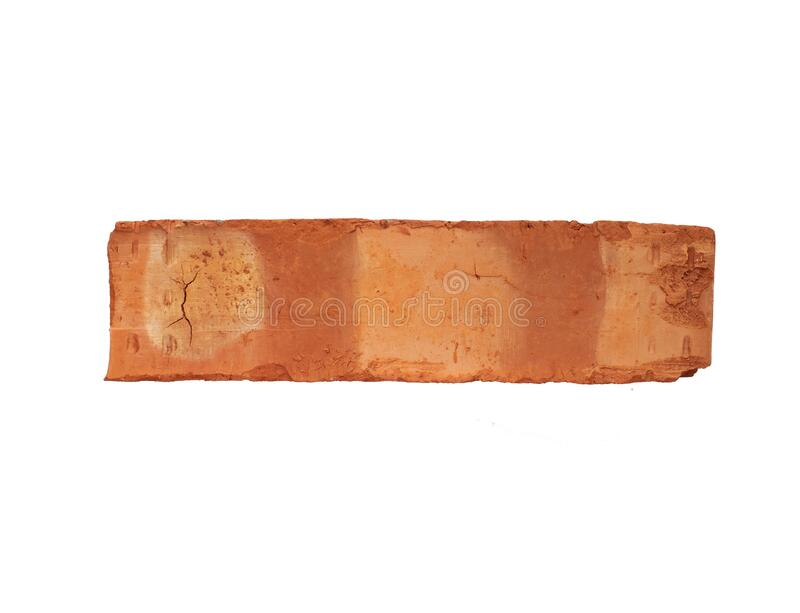brick: (113, 222, 710, 383)
